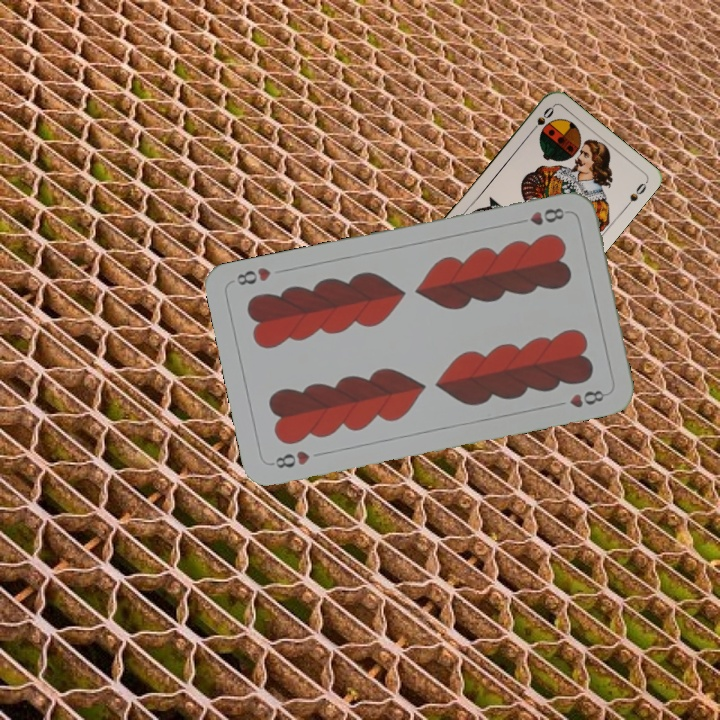H8: (512, 204, 567, 228), (267, 446, 313, 471)
SO: (526, 103, 556, 137)
